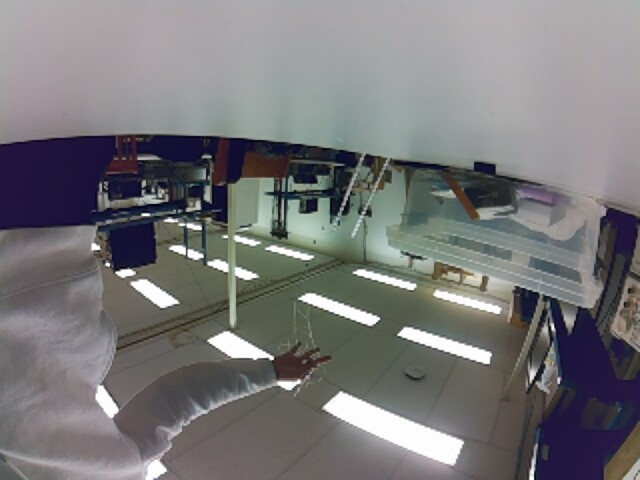mosquito: (312, 239, 317, 245), (321, 225, 325, 232), (305, 262, 309, 267)
